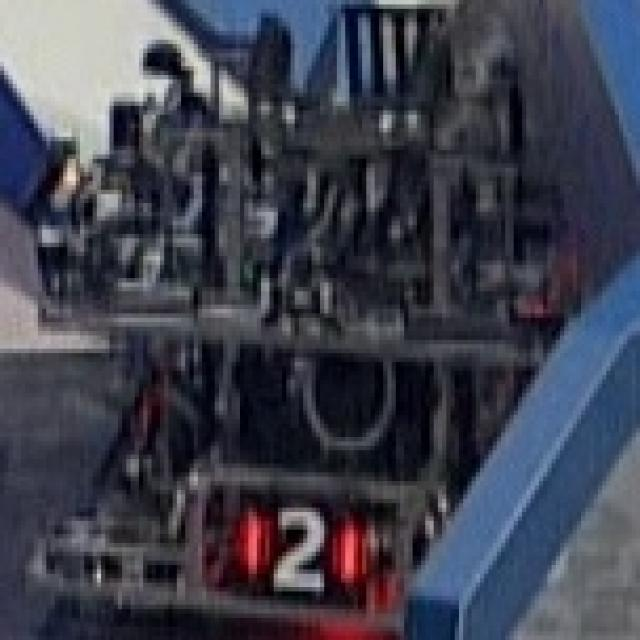R2: (240, 494, 358, 592)
